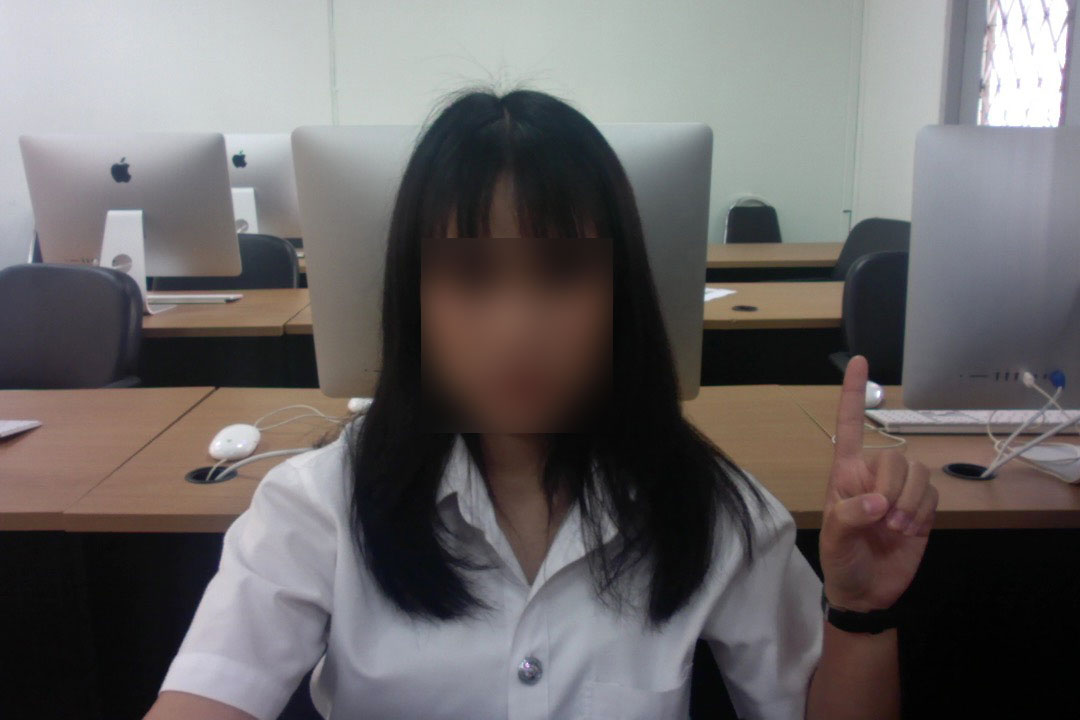dor: (799, 346, 945, 633)
